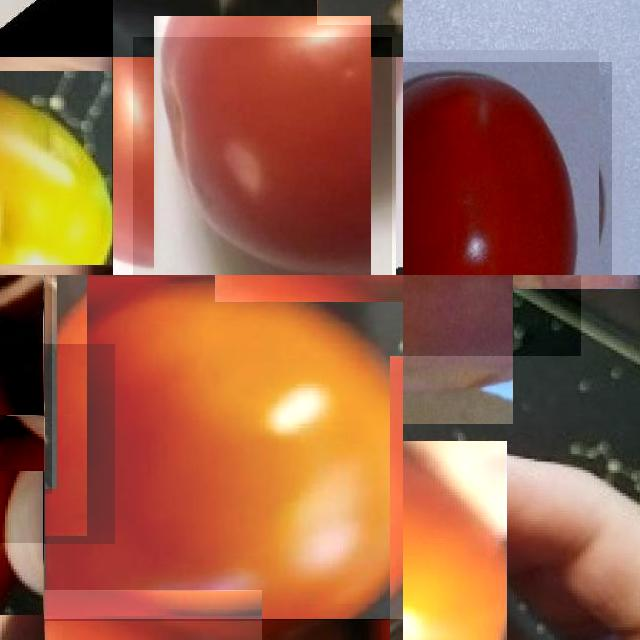0: (44, 275, 403, 619), (0, 343, 115, 543), (44, 590, 262, 640)
Fresh Tomato: (133, 36, 391, 275), (403, 62, 612, 275), (403, 441, 507, 640)
Rotten Tomato: (0, 57, 113, 265)
